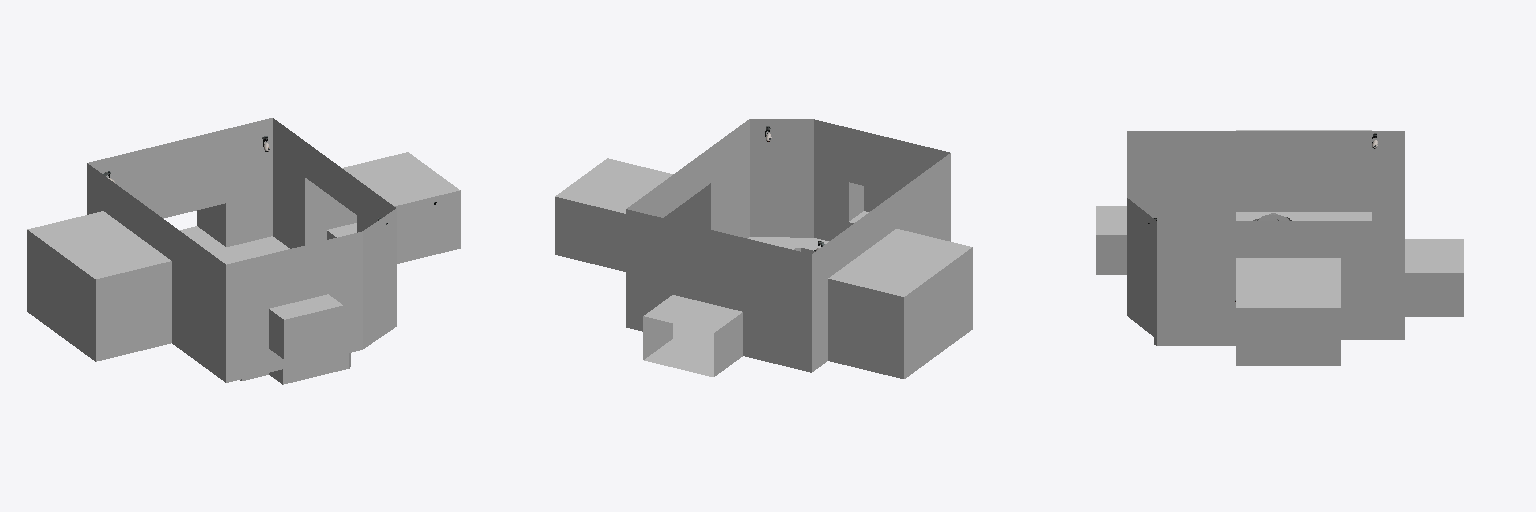
The picture shows the model from 3 angles: view 1: azimuth 30°, elevation 25°; view 2: azimuth 150°, elevation 25°; view 3: azimuth 270°, elevation 25°; orthographic projection.
Parts seen in each view (by area): view 1: Cube_Cube.003; view 2: Cube_Cube.003; view 3: Cube_Cube.003.
Part boxes in pixels (x1,y1,x2,y2): Cube_Cube.003: (27, 118, 460, 384); Cube_Cube.003: (555, 119, 972, 378); Cube_Cube.003: (1096, 130, 1463, 365).
Size of the model in its own units: 128 by 49.3 by 111.
Materials: 7 (1 with a texture image).